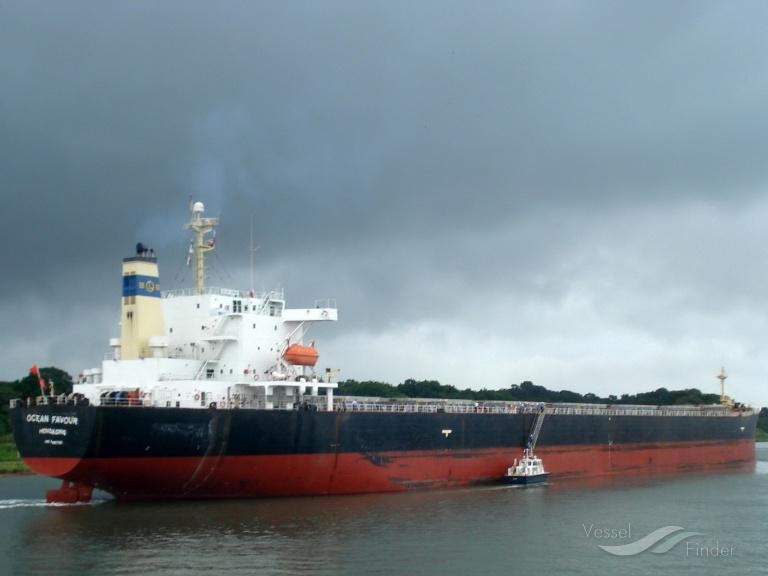OCR: (18, 406, 80, 450)
